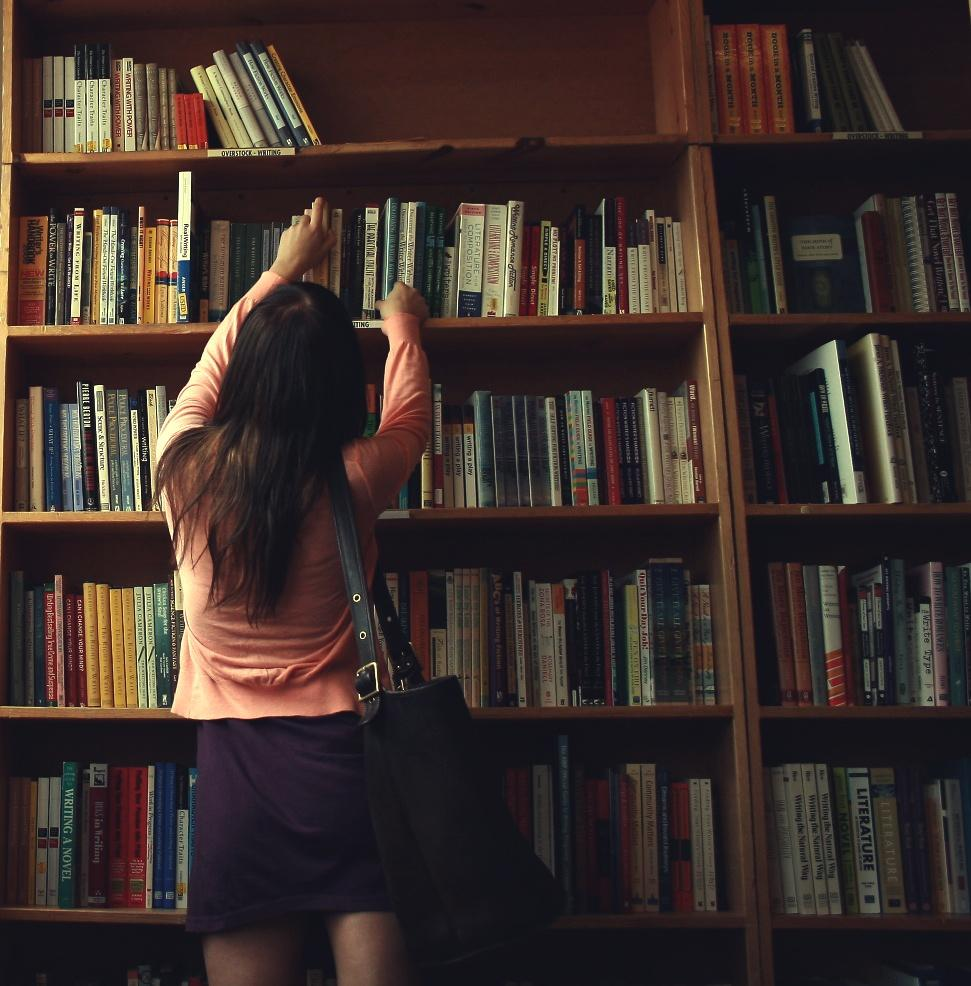Rak: (0, 0, 764, 985), (687, 1, 970, 985)
